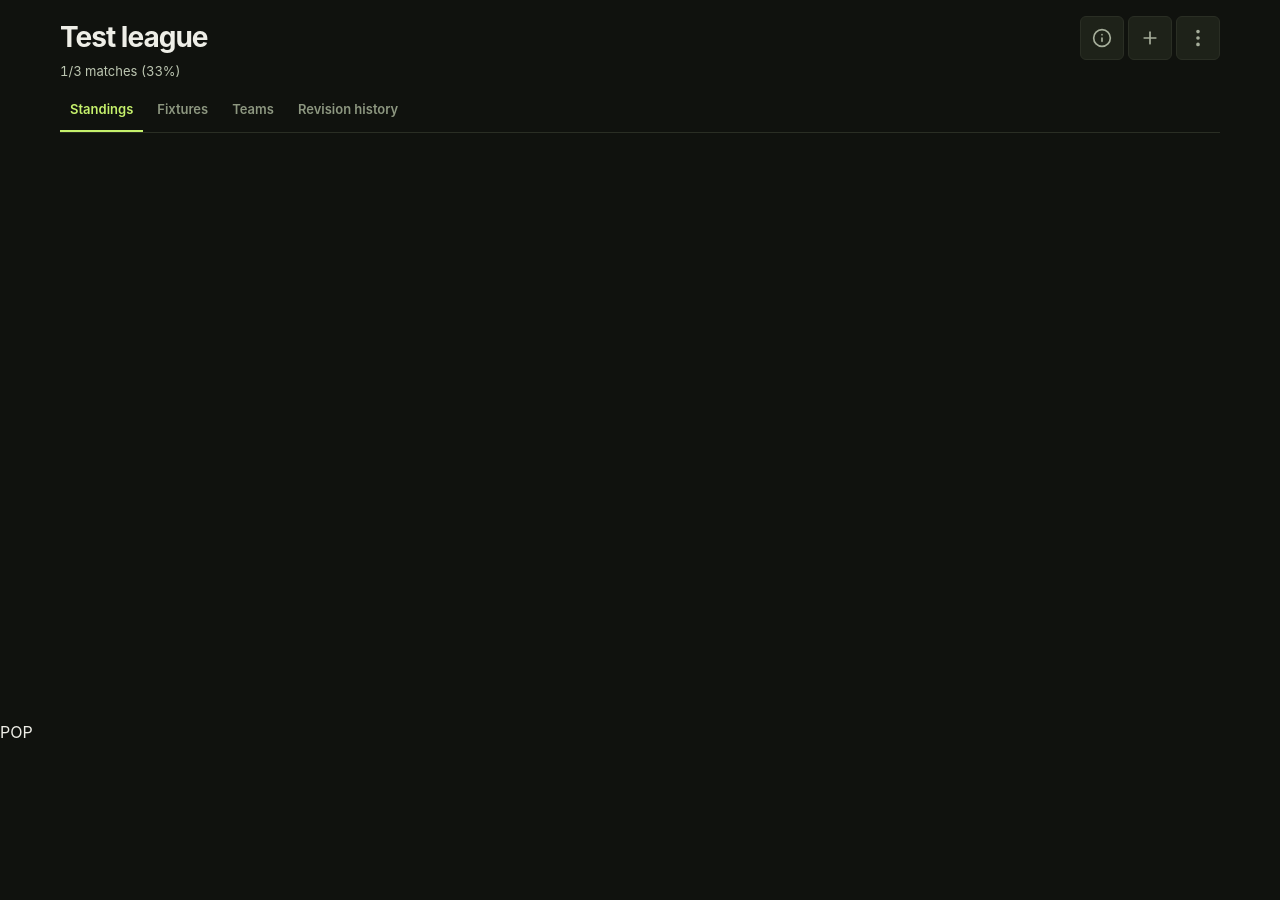
Test: a failed pair save retains the editor and draft
Click the button named "Enter result": {"x": 1150, "y": 38} x1=1128 y1=16 x2=1172 y2=60
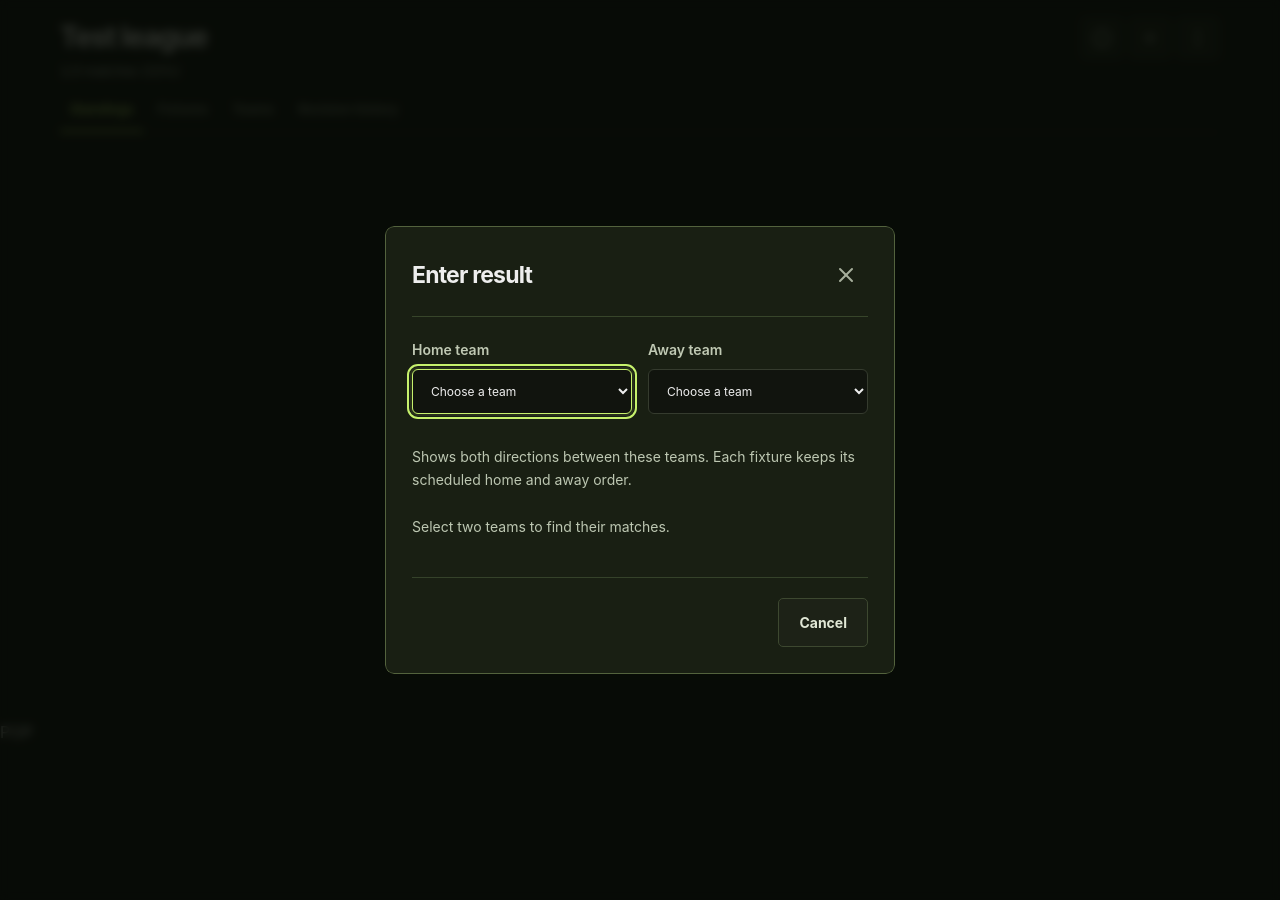
Select "Alpha" in the dropdown labelled "Home team": {"x": 522, "y": 391} x1=412 y1=369 x2=632 y2=414
Select "Beta" in the dropdown labelled "Away team": {"x": 758, "y": 391} x1=648 y1=369 x2=868 y2=414
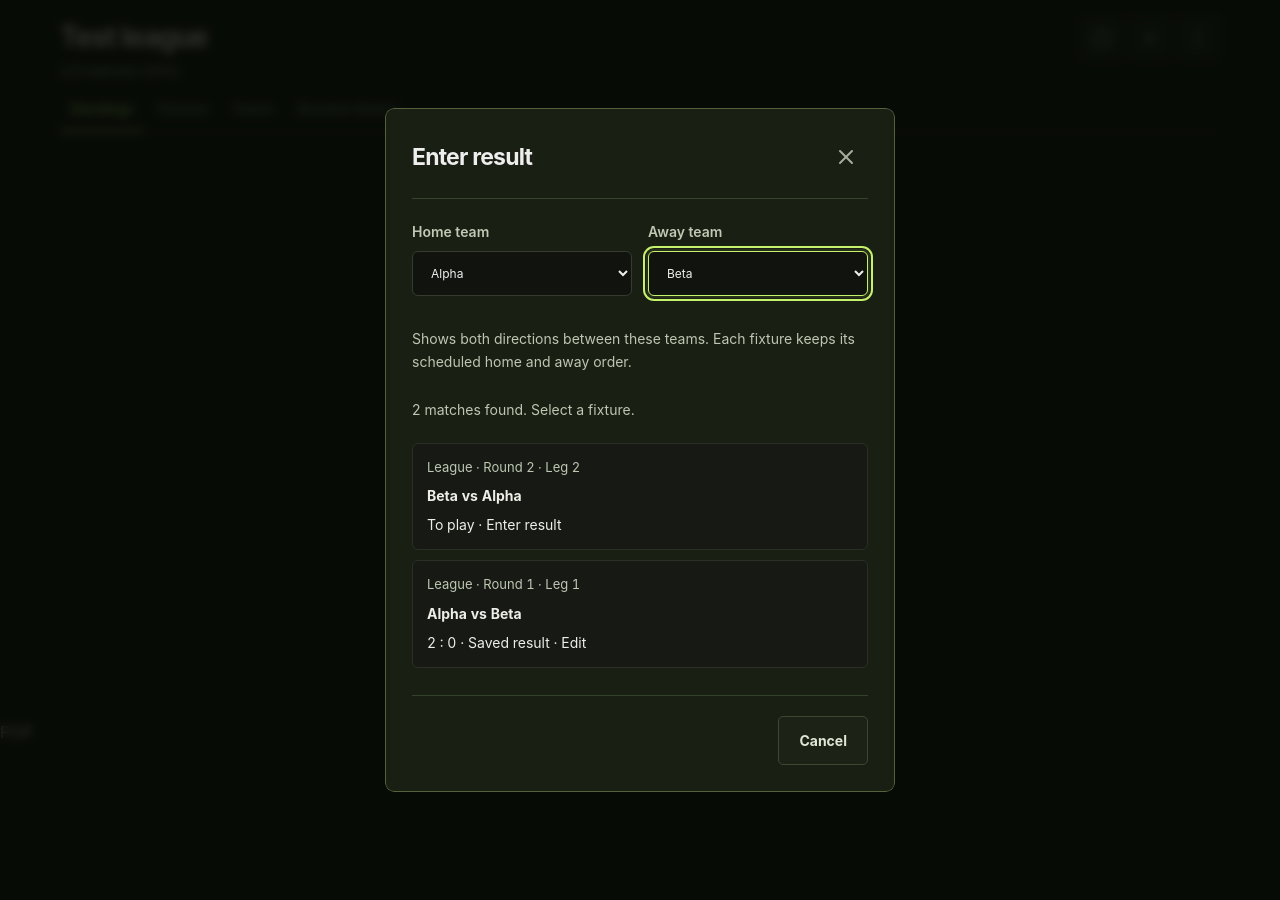
Click the button with aria-label "Select fixture:": {"x": 450, "y": 467} x1=412 y1=443 x2=868 y2=550
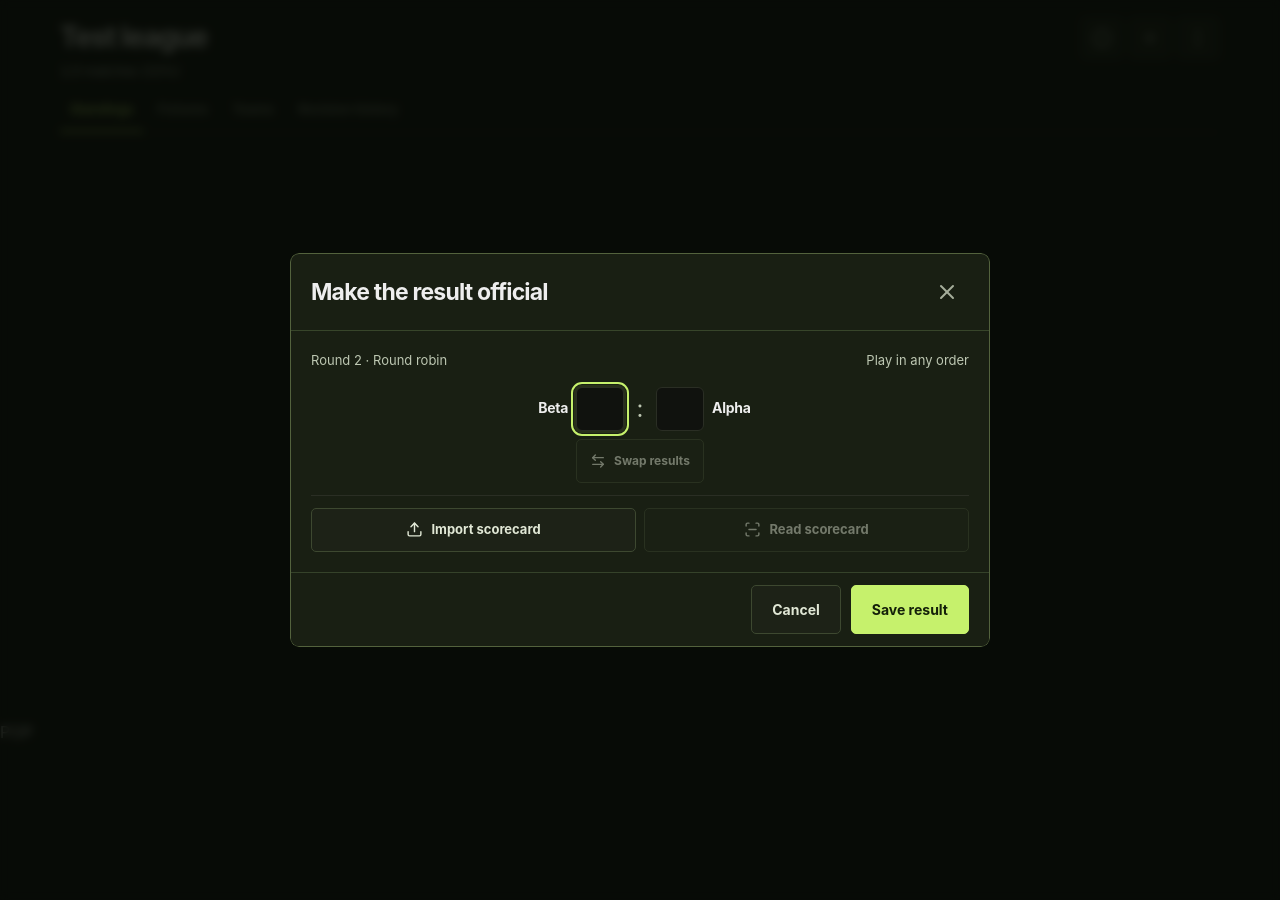
In the 1st number field named "Beta score": {"x": 600, "y": 409} x1=576 y1=387 x2=624 y2=431, type "1"
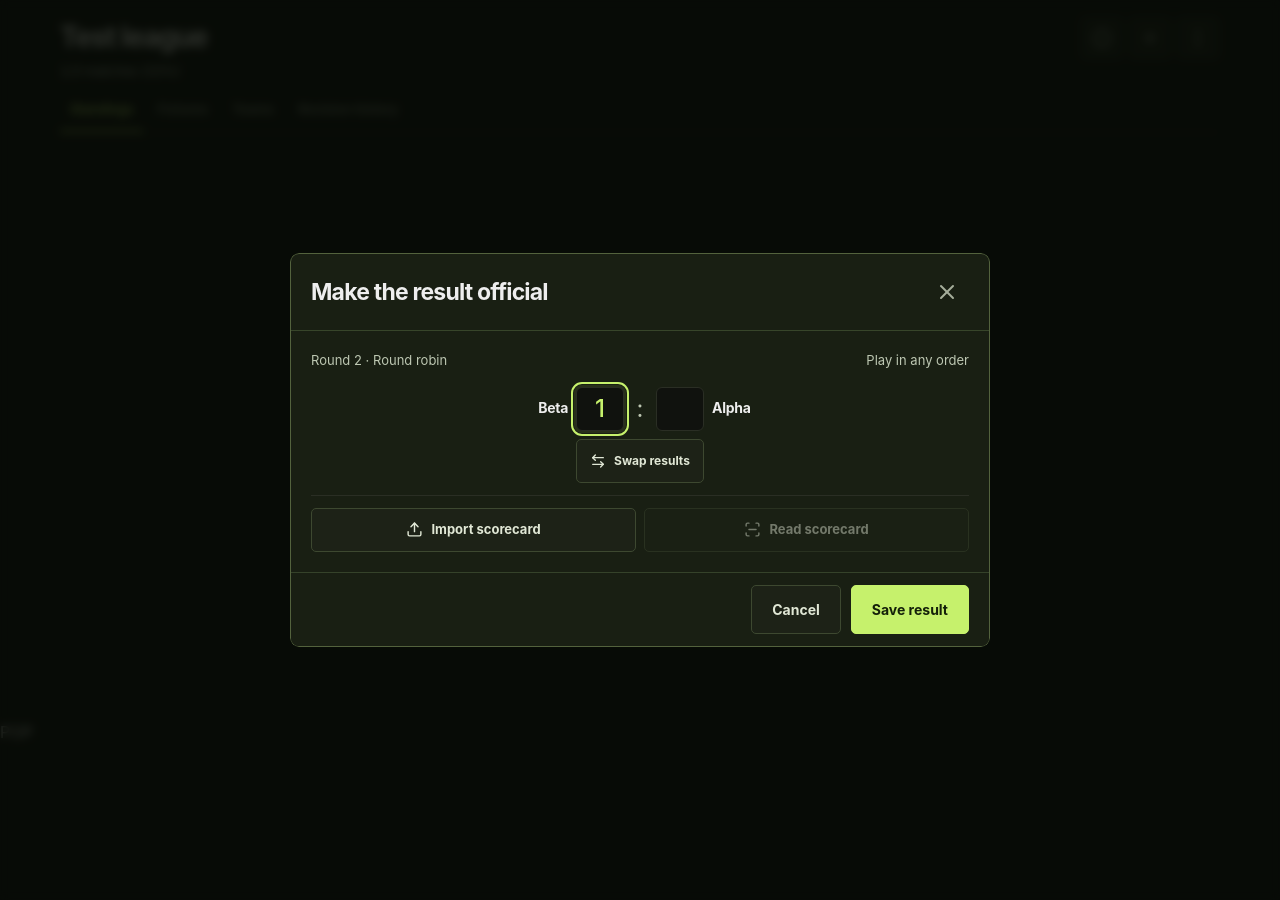
In the 2nd number field named "Alpha score": {"x": 680, "y": 409} x1=656 y1=387 x2=704 y2=431, type "0"
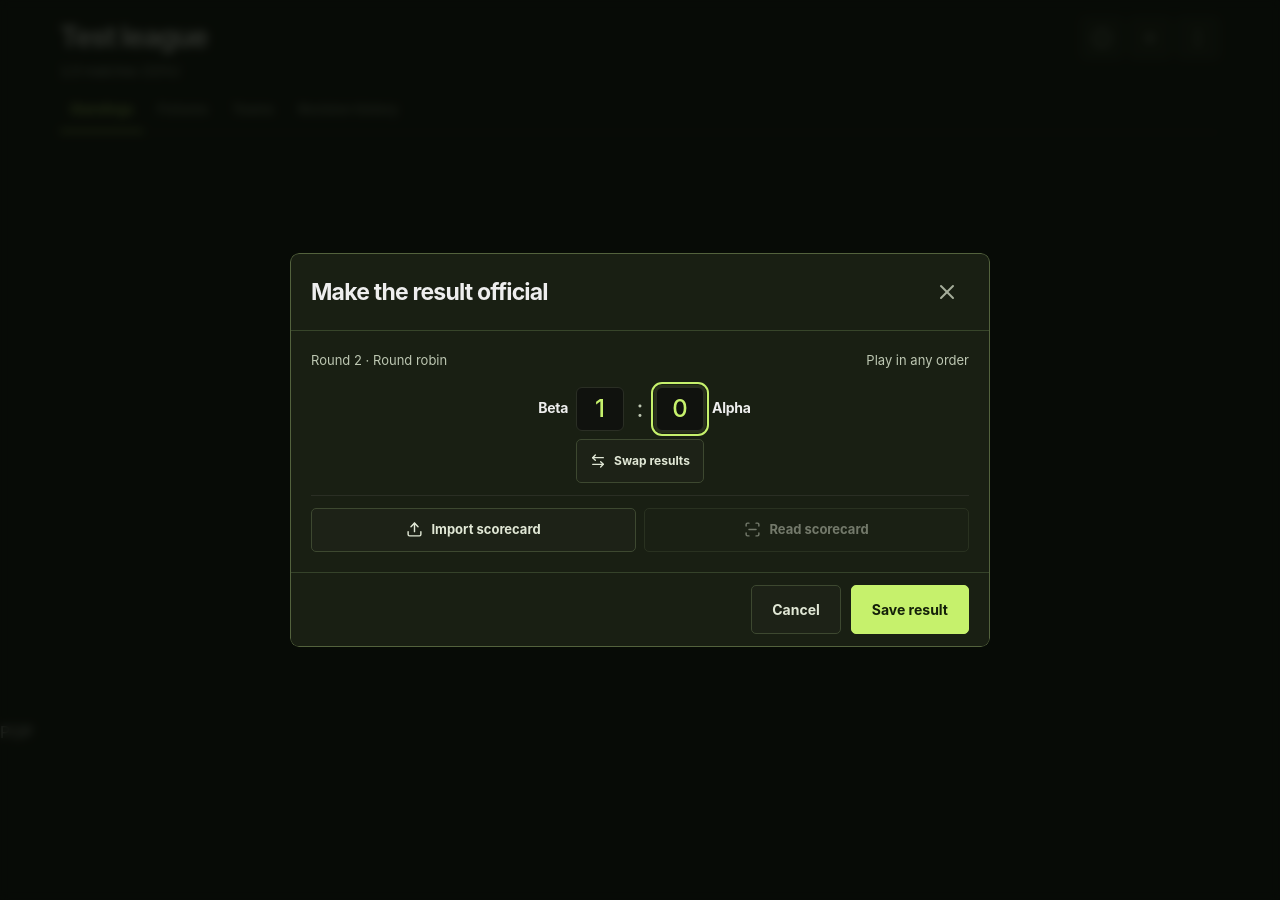
Click the button "Save result": {"x": 910, "y": 609} x1=851 y1=585 x2=969 y2=634
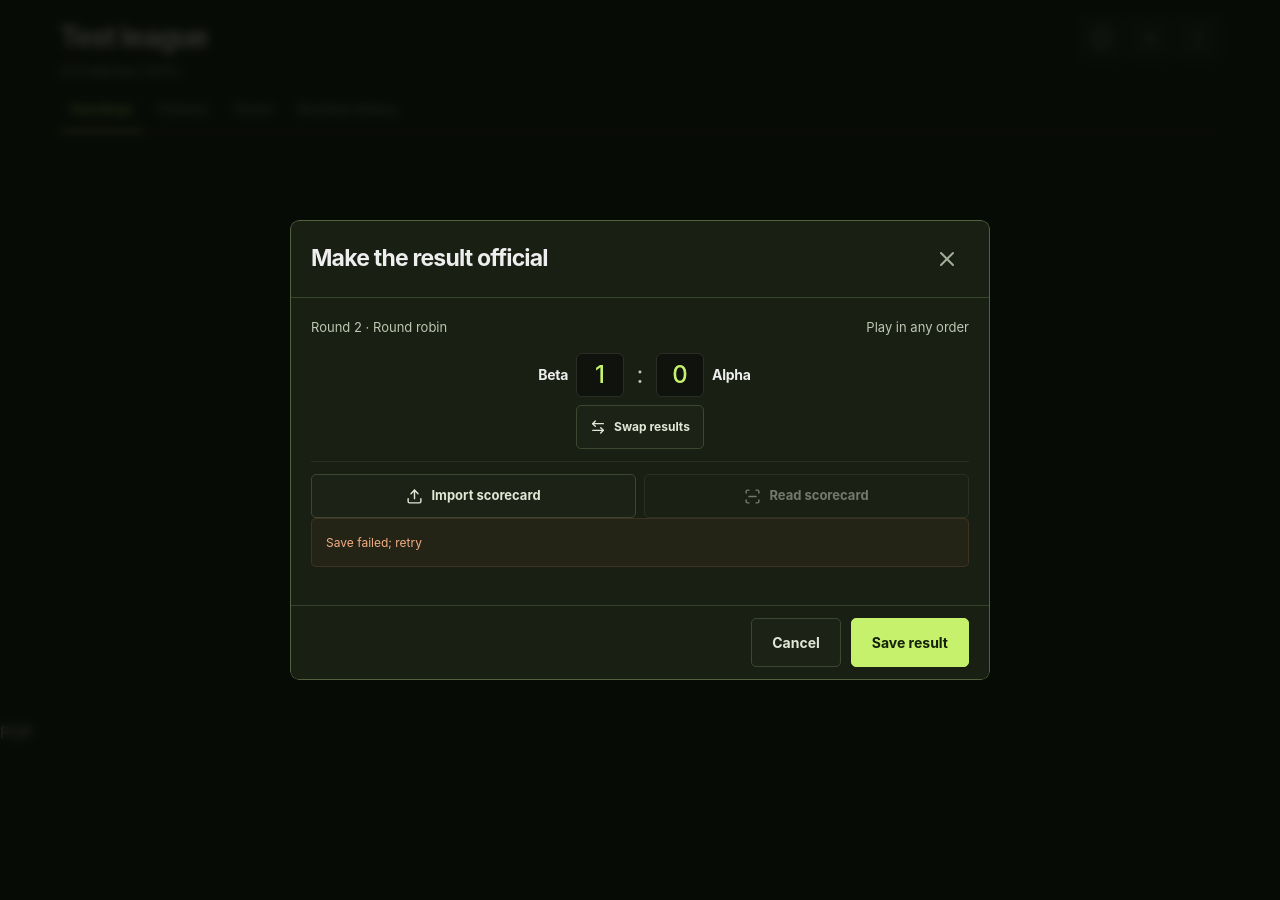
Expected: the heading "Enter result" is not shown
Now the message reads "Save failed; retry", box x1=326 y1=535 x2=422 y2=550
